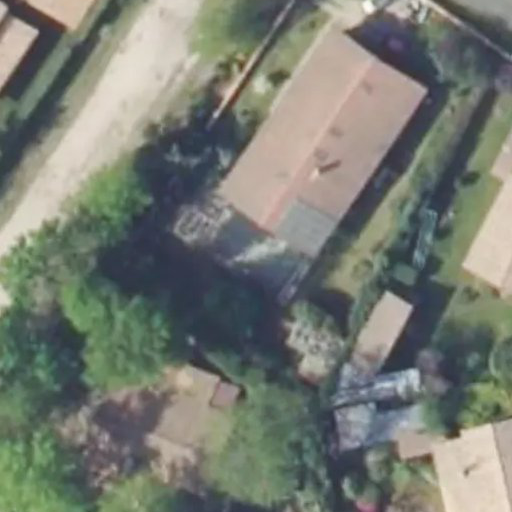pool: (201, 203, 295, 295)
